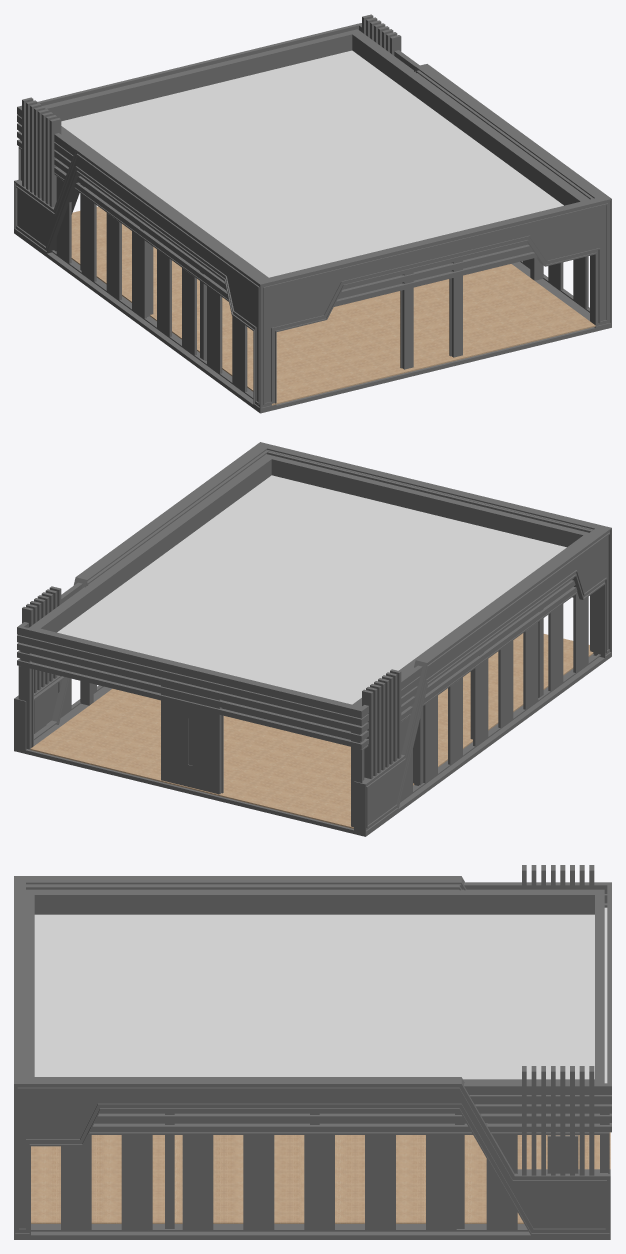
Rendered from gym house V2 1.fbx.
The picture shows the model from 3 angles, top to bottom: view 1: azimuth 30°, elevation 25°; view 2: azimuth 150°, elevation 25°; view 3: azimuth 270°, elevation 25°; orthographic projection. The views are drawn at different scales.
Visible parts, largest first — view 1: Fitness Club.015, Fitness Club.033, Fitness Club.016, Fitness Club.020, Fitness Club.017, Fitness Club.019, Fitness Club.004, Fitness Club.022, Fitness Club.021, Fitness Club.005, Fitness Club.009, Fitness Club.013; view 2: Fitness Club.015, Fitness Club.033, Fitness Club.019, Fitness Club.020, Fitness Club.017, Fitness Club.004, Fitness Club.016, Fitness Club.013, Fitness Club.022, Fitness Club.005, Fitness Club.021, Fitness Club.009 (+1 smaller); view 3: Fitness Club.015, Fitness Club.004, Fitness Club.033, Fitness Club.020, Fitness Club.016, Fitness Club.019, Fitness Club.017, Fitness Club.022, Fitness Club.005, Fitness Club.021, Fitness Club.009, Fitness Club.013 (+1 smaller).
Boxes of the visible parts, box(x1,y1,x2,y2) form: Fitness Club.015: box(61, 50, 563, 277); Fitness Club.033: box(71, 206, 595, 405); Fitness Club.016: box(15, 152, 610, 407); Fitness Club.020: box(41, 29, 589, 299); Fitness Club.017: box(14, 64, 611, 409); Fitness Club.019: box(17, 23, 537, 306); Fitness Club.004: box(56, 176, 585, 391); Fitness Club.022: box(15, 70, 608, 404); Fitness Club.021: box(14, 230, 611, 413); Fitness Club.005: box(22, 14, 401, 207); Fitness Club.009: box(18, 146, 589, 398); Fitness Club.013: box(20, 140, 543, 369); Fitness Club.015: box(57, 475, 566, 704); Fitness Club.033: box(30, 633, 593, 828); Fitness Club.019: box(17, 450, 593, 749); Fitness Club.020: box(29, 454, 588, 739); Fitness Club.017: box(14, 442, 611, 833); Fitness Club.004: box(34, 593, 588, 800); Fitness Club.016: box(46, 530, 610, 829); Fitness Club.013: box(20, 593, 593, 827); Fitness Club.022: box(34, 450, 610, 827); Fitness Club.005: box(22, 586, 401, 779); Fitness Club.021: box(14, 653, 611, 836); Fitness Club.009: box(18, 587, 600, 802); Fitness Club.015: box(34, 907, 607, 1083); Fitness Club.004: box(61, 1135, 577, 1229); Fitness Club.033: box(31, 1132, 610, 1223); Fitness Club.020: box(26, 889, 604, 1123); Fitness Club.016: box(15, 1085, 609, 1233); Fitness Club.019: box(26, 882, 611, 1132); Fitness Club.017: box(14, 876, 610, 1235); Fitness Club.022: box(17, 885, 606, 1230); Fitness Club.005: box(522, 865, 594, 1175); Fitness Club.021: box(14, 1227, 610, 1239); Fitness Club.009: box(31, 1132, 609, 1231); Fitness Club.013: box(165, 1113, 609, 1228).
Size of the model in its own units: 1500 by 564 by 1823.
